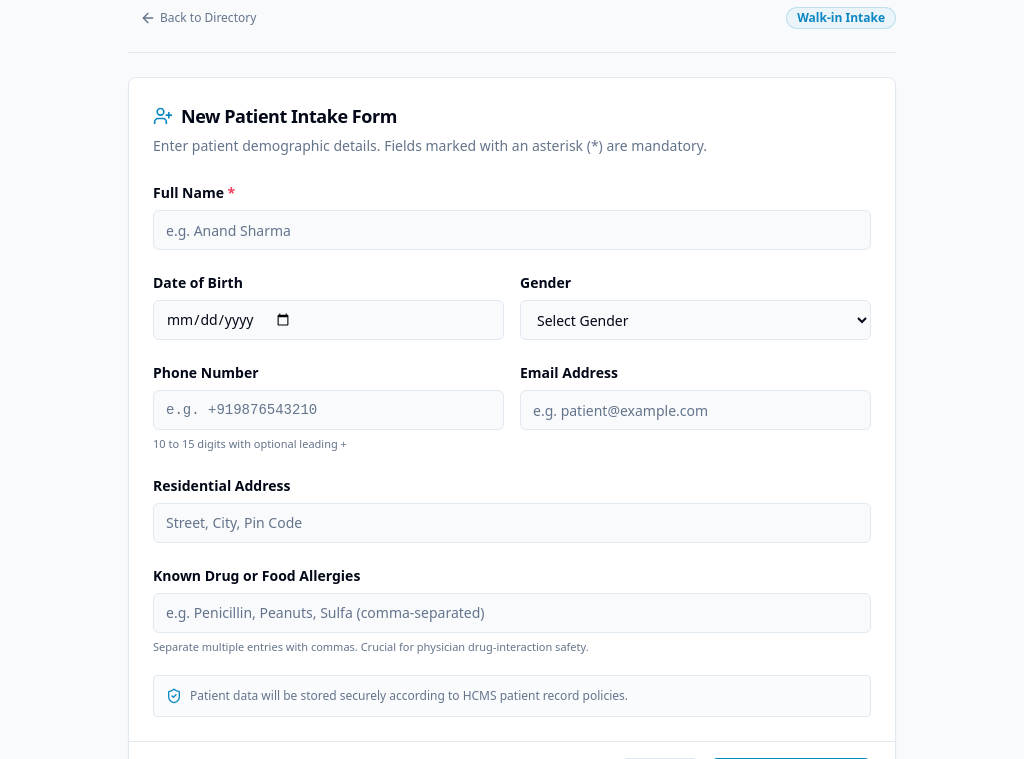
Receptionist Patient Management & Registration › successfully registers patient and presents confirmation with patient UUID
Type "Rahul Dravid" into the field with placeholder "e.g. Anand Sharma" at (512, 230), box [153,210,871,250]
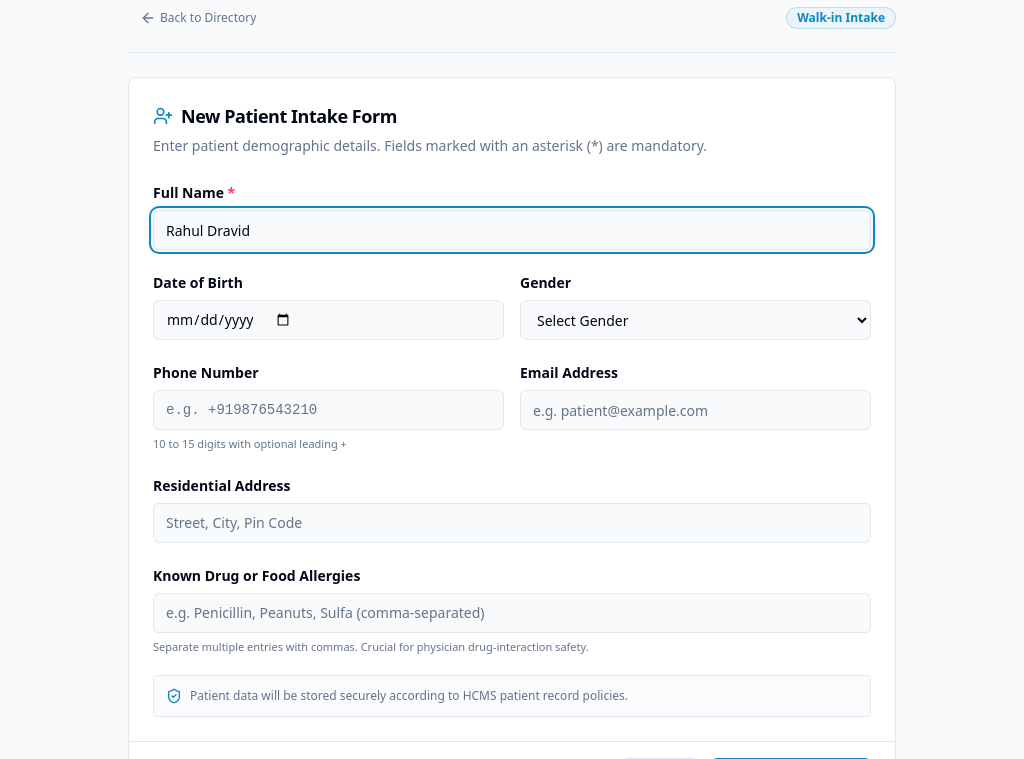
Type "+919876543299" into the field with placeholder "e.g. +919876543210" at (328, 410), box [153,390,504,430]
(page scrolled)
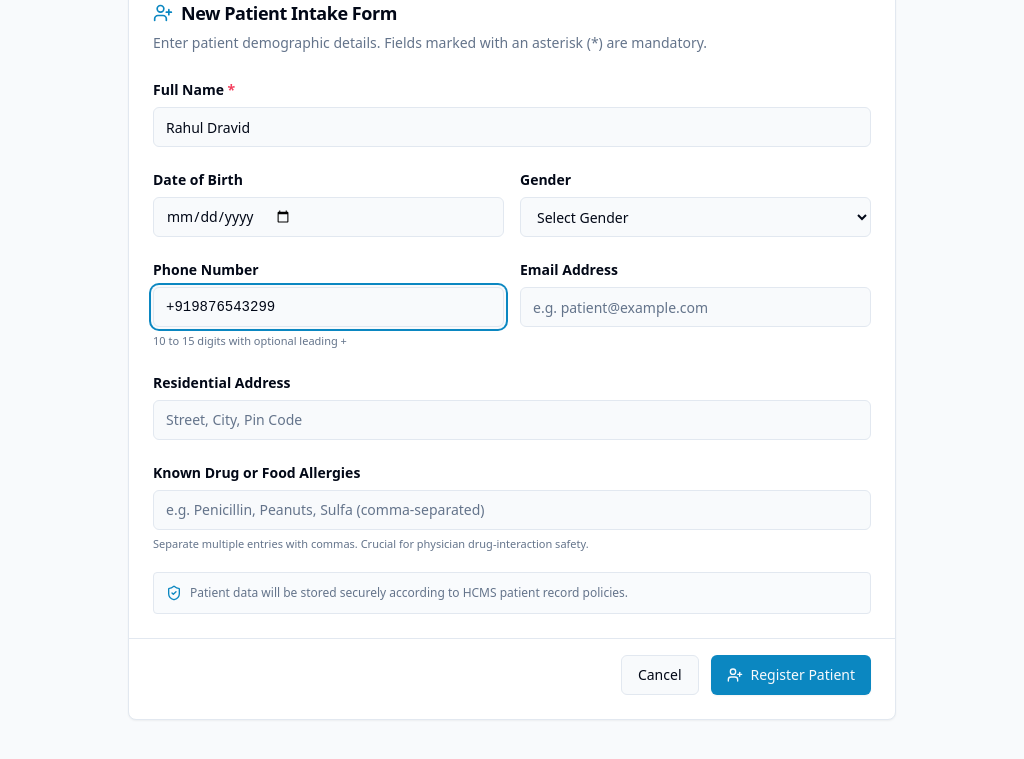
Click the button "Register Patient" at (791, 675), box [710,655,871,695]
(page scrolled)
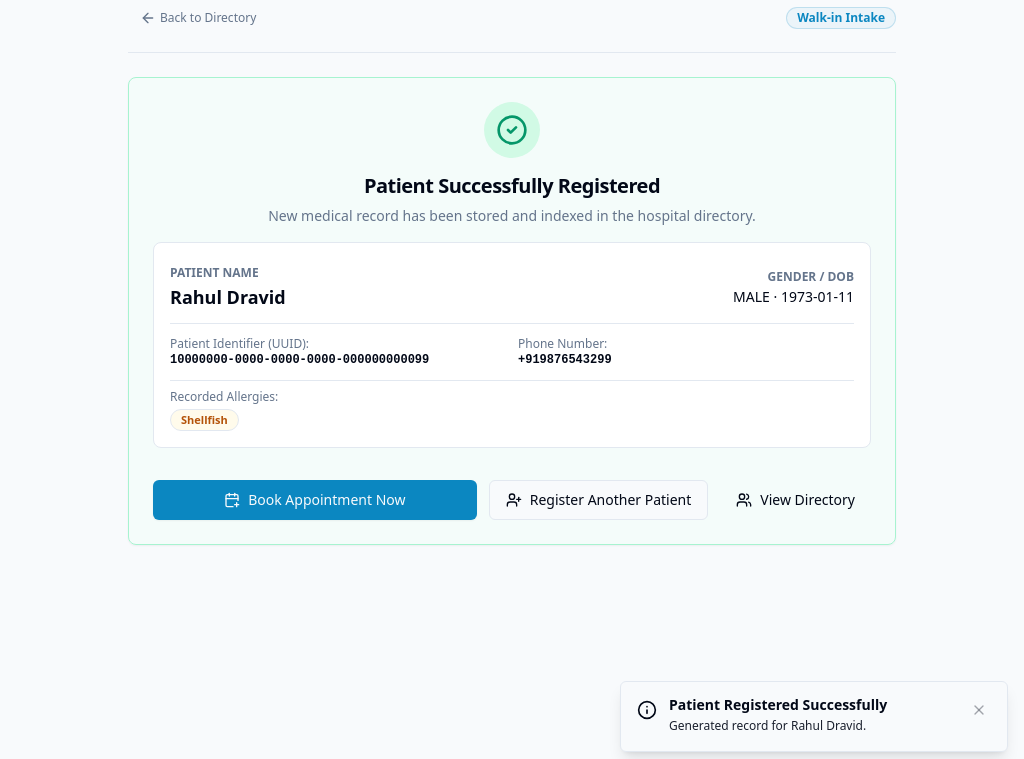
Result: the heading "Patient Successfully Registered" is shown at [364,172,660,199]
Result: the text "10000000-0000-0000-0000-000000000099" is shown at [170,353,429,367]
Result: the button "Book Appointment Now" is shown at [153,480,477,520]
